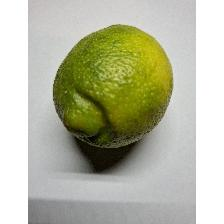Zitrone: (44, 15, 180, 154)
